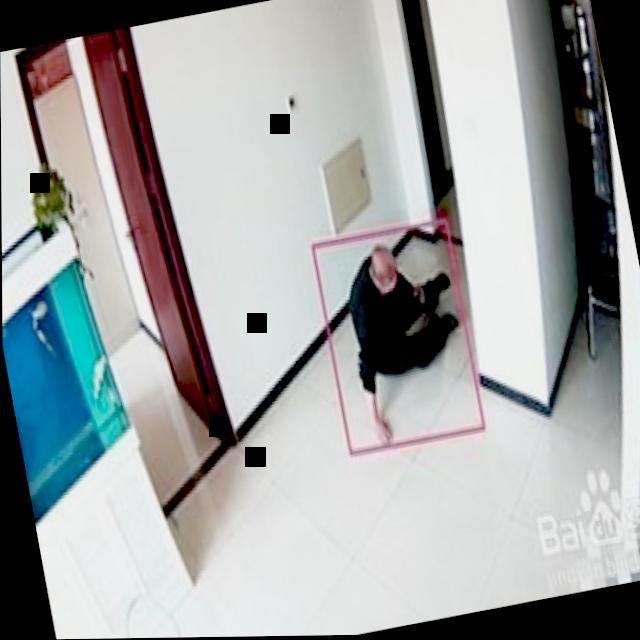Fall-Detected: (323, 219, 481, 437)
